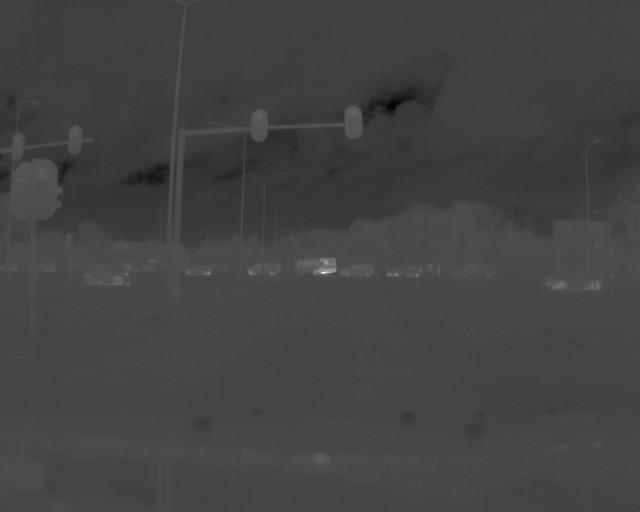car: (82, 260, 133, 292), (543, 266, 602, 292), (448, 262, 501, 284), (243, 257, 283, 277), (385, 263, 425, 279), (339, 262, 378, 278), (184, 263, 215, 278)
